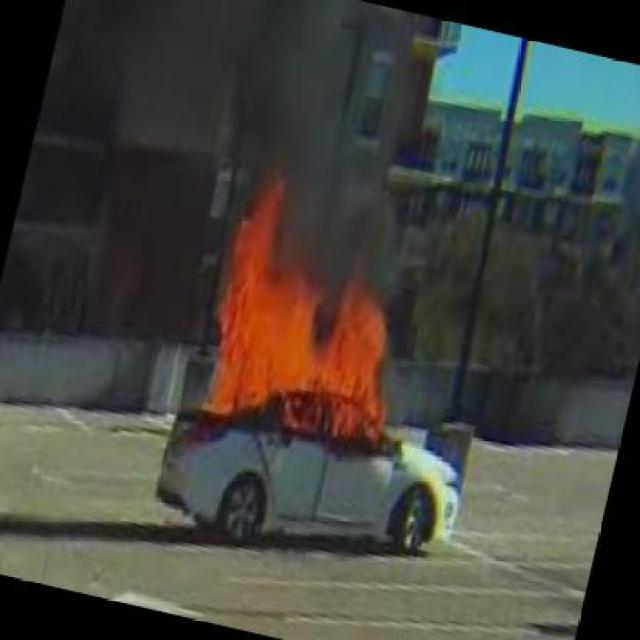Fire: (212, 185, 394, 442)
Smoke: (140, 12, 435, 174)
